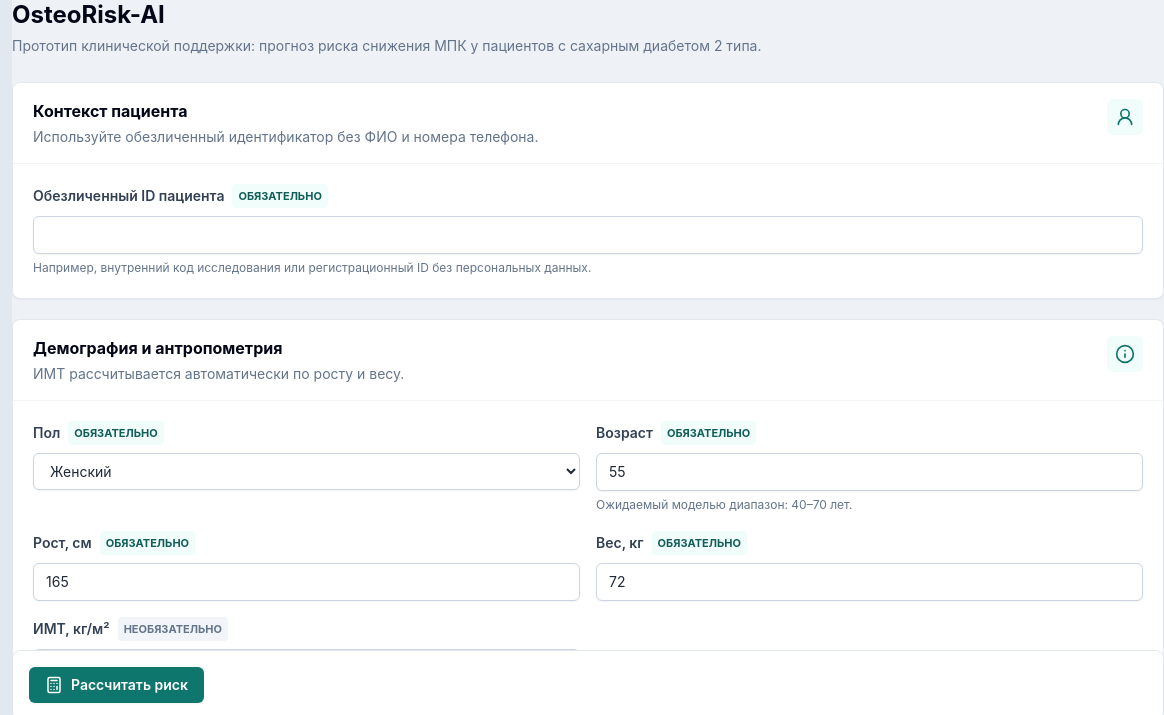
OsteoRiskPage › renders high risk color and label
This screenshot has width=1164, height=715.
In the field: (588, 235) [33,216,1143,254], type "UNIT-001"
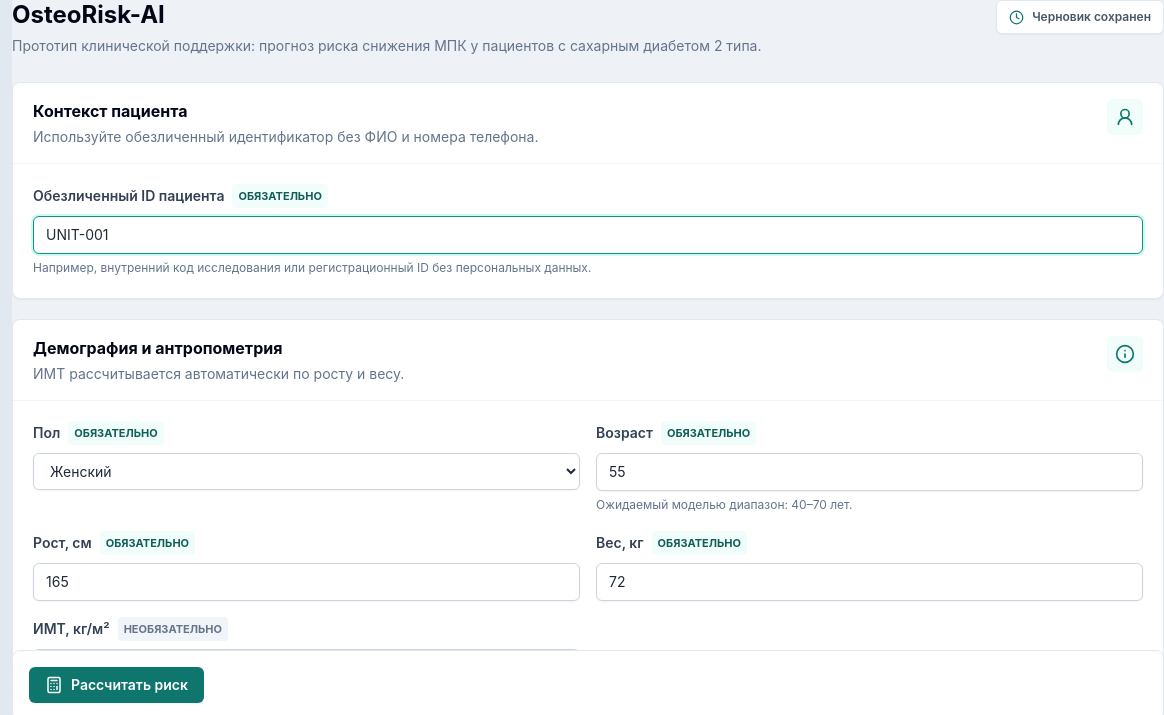
Click the button "Рассчитать риск": (116, 685) [29,667,204,703]
(page scrolled)
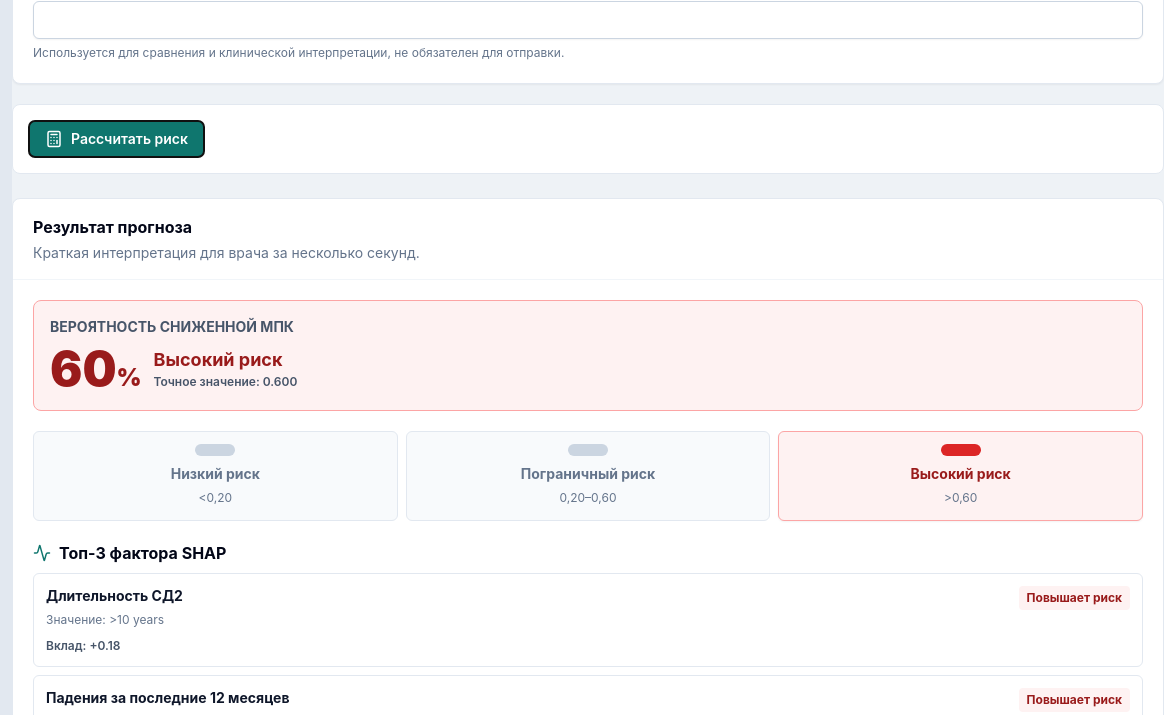
Expected: the text "Высокий риск" below "Вероятность сниженной МПК" is shown, [154,349,282,370]
